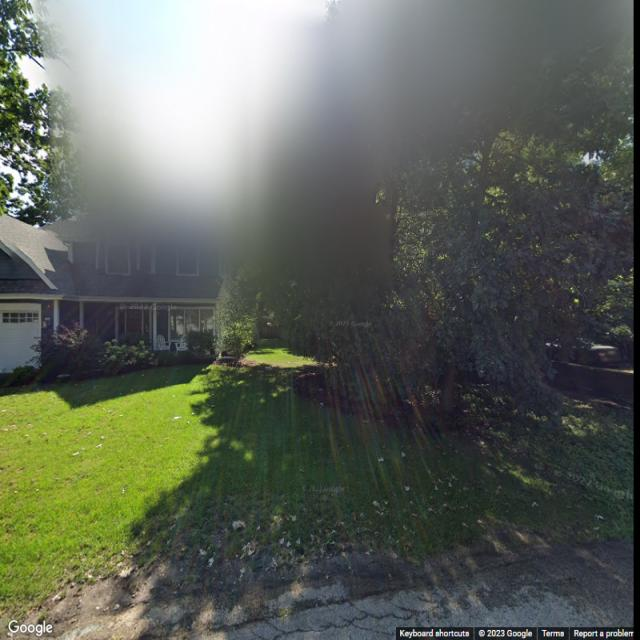House: (0, 188, 225, 381)
